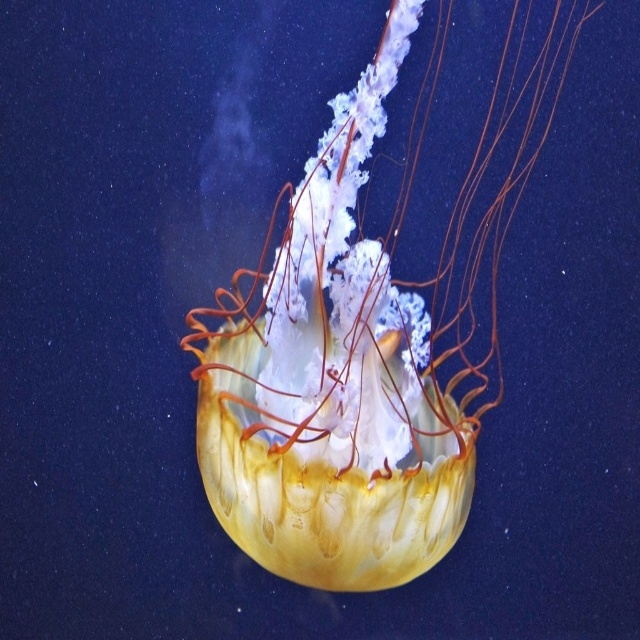Jellyfish: (180, 0, 604, 592)
